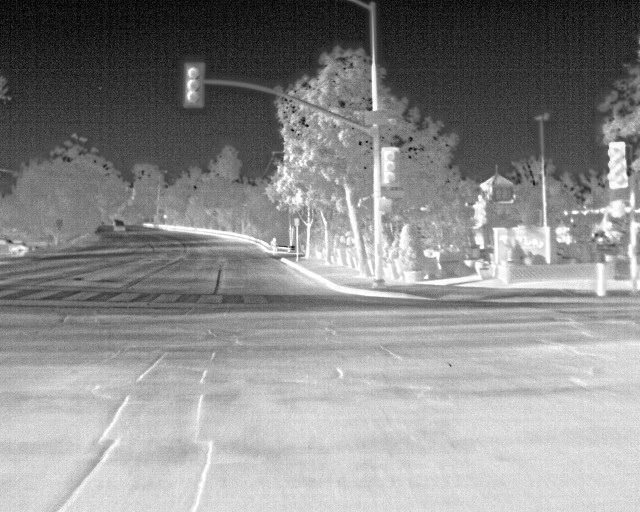car: (1, 232, 42, 262), (106, 213, 136, 237)
people: (267, 233, 282, 256)
